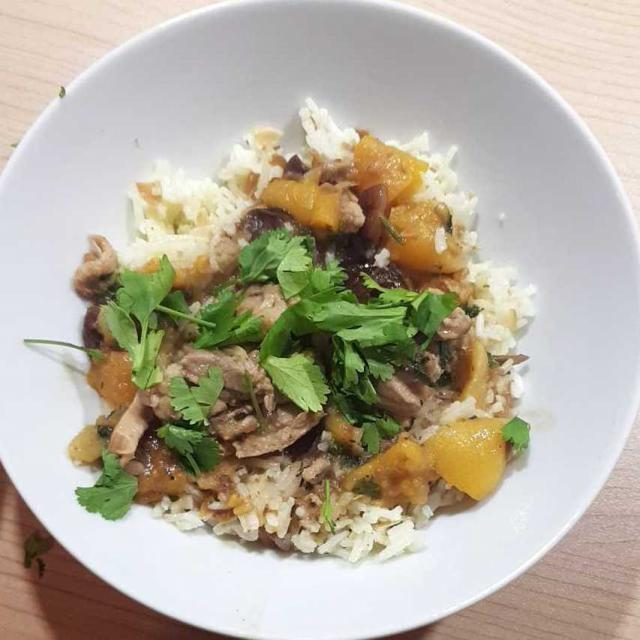bell-pepper: (90, 136, 519, 531)
coriander: (92, 210, 439, 453)
pork: (97, 266, 482, 482)
rice: (71, 123, 525, 558)
